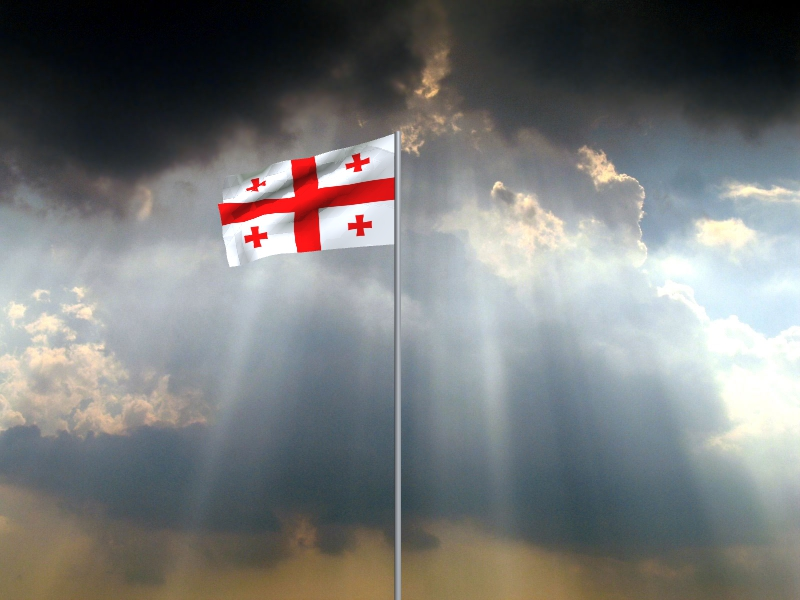ge: (218, 134, 395, 269)
